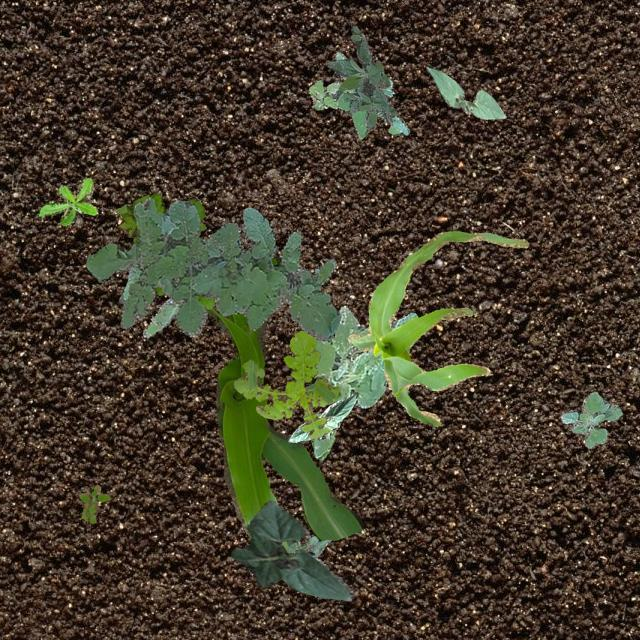crop: (205, 256, 361, 552), (348, 230, 528, 426), (230, 500, 352, 600), (424, 64, 504, 119), (287, 391, 357, 442), (286, 534, 330, 556)
weed: (84, 196, 340, 340), (304, 304, 416, 458), (232, 329, 340, 438), (114, 192, 214, 308), (307, 51, 408, 138), (326, 24, 396, 128), (118, 266, 178, 336), (560, 390, 622, 448), (38, 177, 96, 224), (78, 483, 110, 522)
